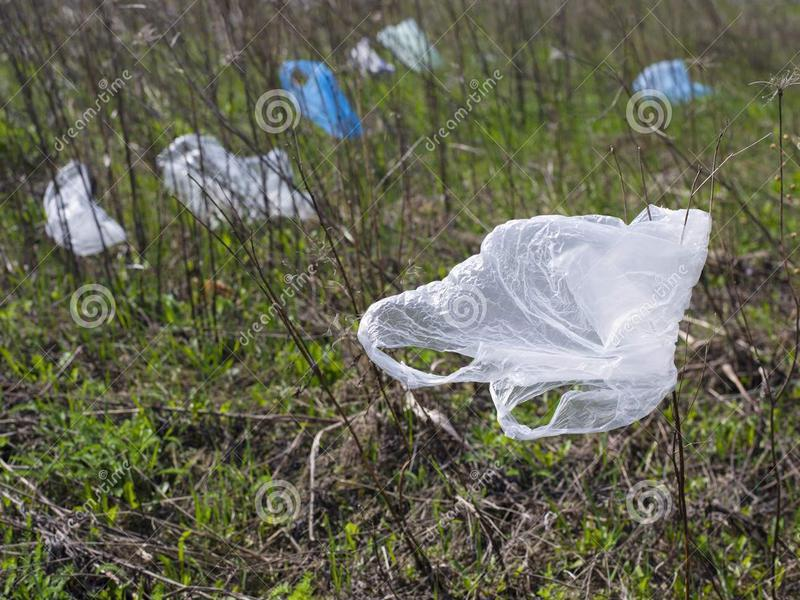plastic: (347, 196, 720, 448), (153, 123, 322, 233), (29, 157, 132, 261), (275, 55, 370, 146), (625, 52, 721, 114)
